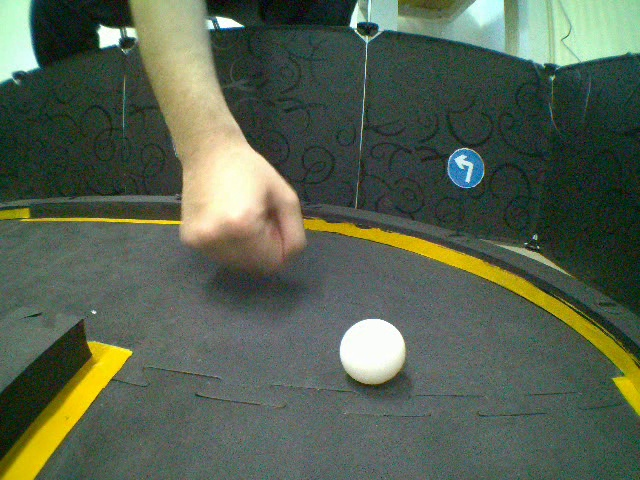bucket: (338, 316, 407, 387)
